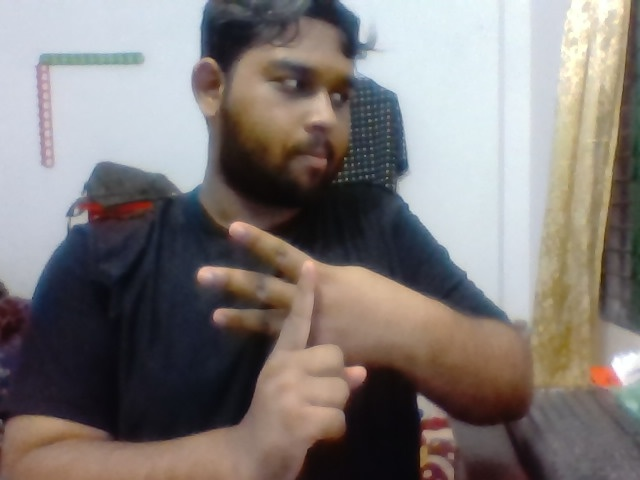E: (180, 211, 377, 454)
